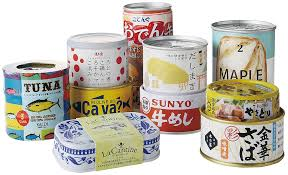can: (3, 1, 288, 175)
